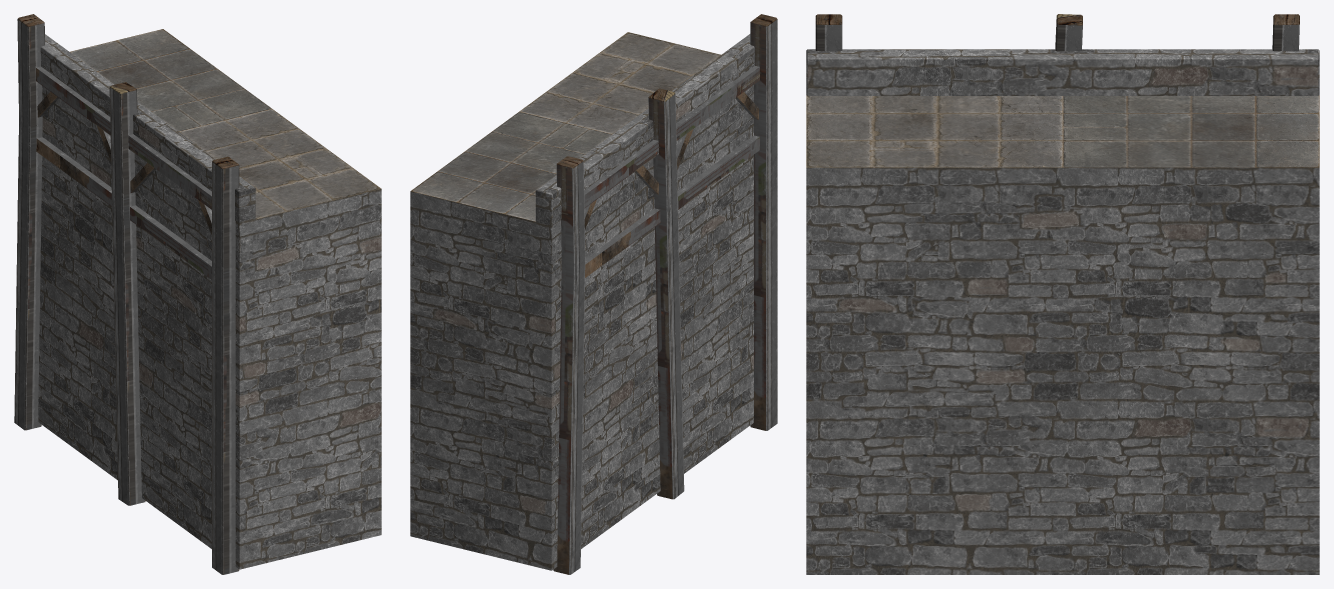
File: MC_Castle_Embankment.fbx
3 views of the same model, side by side, from view 1: azimuth 30°, elevation 25°; view 2: azimuth 150°, elevation 25°; view 3: azimuth 270°, elevation 25° (orthographic). The views are drawn at different scales.
Visible parts, largest first — view 1: MC_Castle_Embankment_LOD0; view 2: MC_Castle_Embankment_LOD0; view 3: MC_Castle_Embankment_LOD0.
Boxes of the visible parts, bbox=[...] form: MC_Castle_Embankment_LOD0: bbox=[14, 14, 381, 574]; MC_Castle_Embankment_LOD0: bbox=[410, 14, 777, 574]; MC_Castle_Embankment_LOD0: bbox=[806, 14, 1319, 574].
Size of what is drawn, in the model's own units: 328 by 824 by 800.
